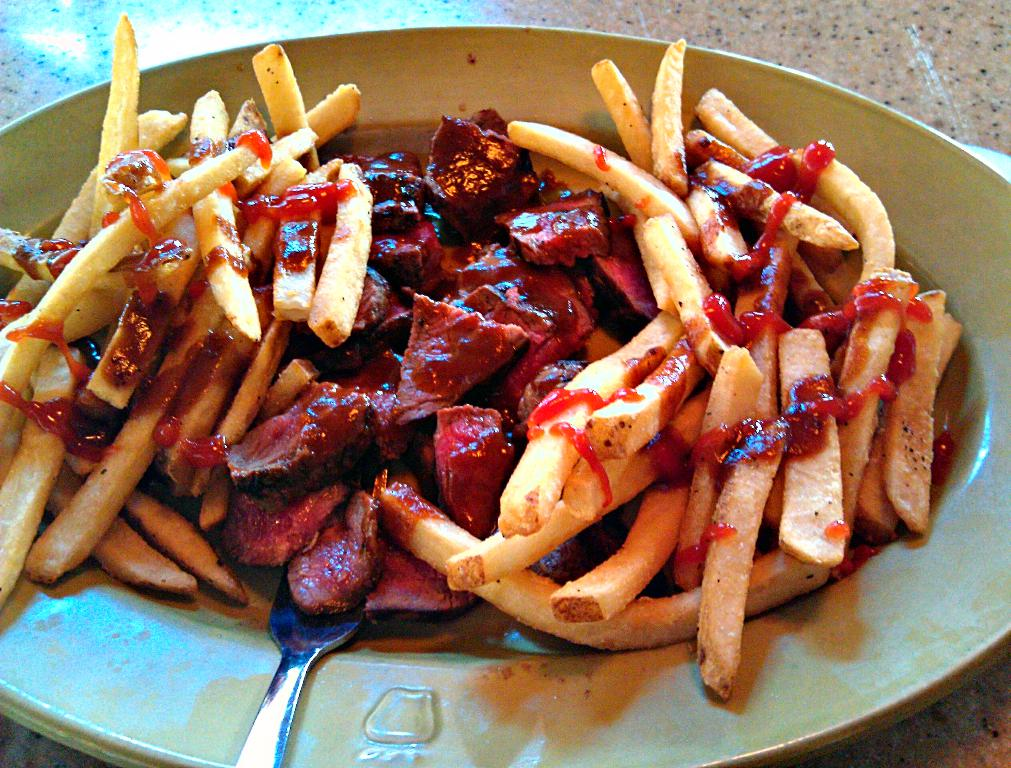French fries: (64, 97, 952, 693)
